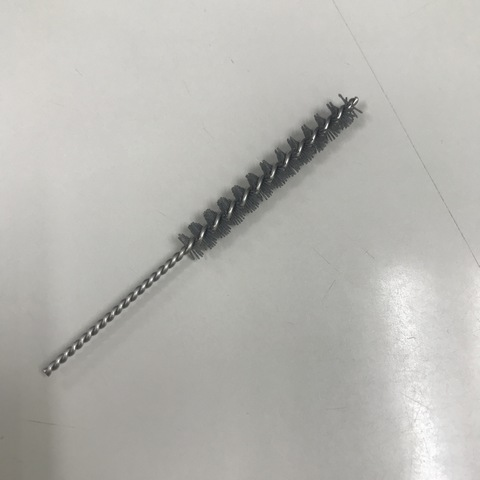Twist Brush-A: (37, 92, 367, 380)
